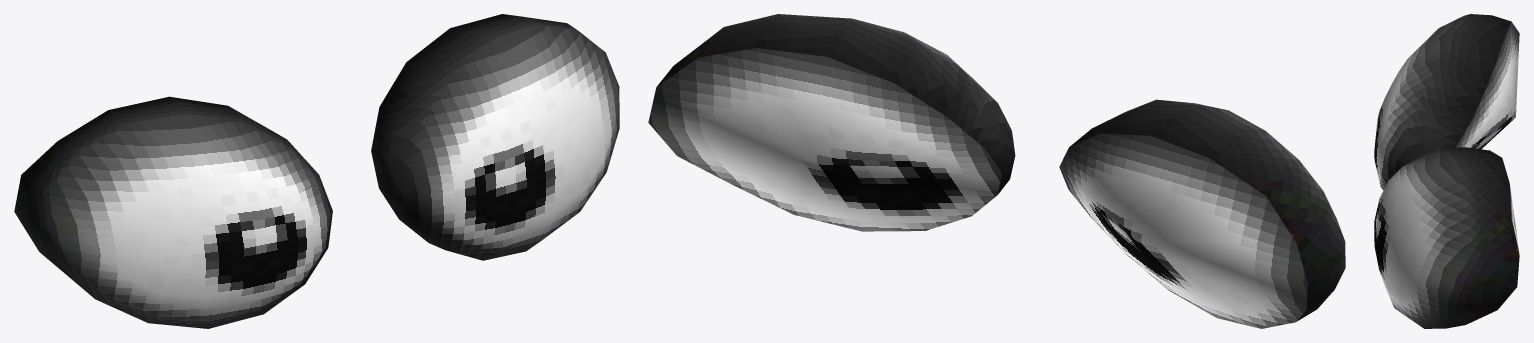
Rendered from m_e_hahuyeon.FBX.
The picture shows the model from 3 angles, left to right: view 1: azimuth 30°, elevation 25°; view 2: azimuth 150°, elevation 25°; view 3: azimuth 270°, elevation 25°; orthographic projection. The views are drawn at different scales.
Visible parts, largest first — view 1: eye; view 2: eye; view 3: eye.
Boxes of the visible parts, bbox=[...] form: eye: bbox=[14, 14, 619, 328]; eye: bbox=[648, 14, 1345, 328]; eye: bbox=[1374, 14, 1519, 328].
Size of the model in its own units: 5.55 by 1.79 by 1.47.
